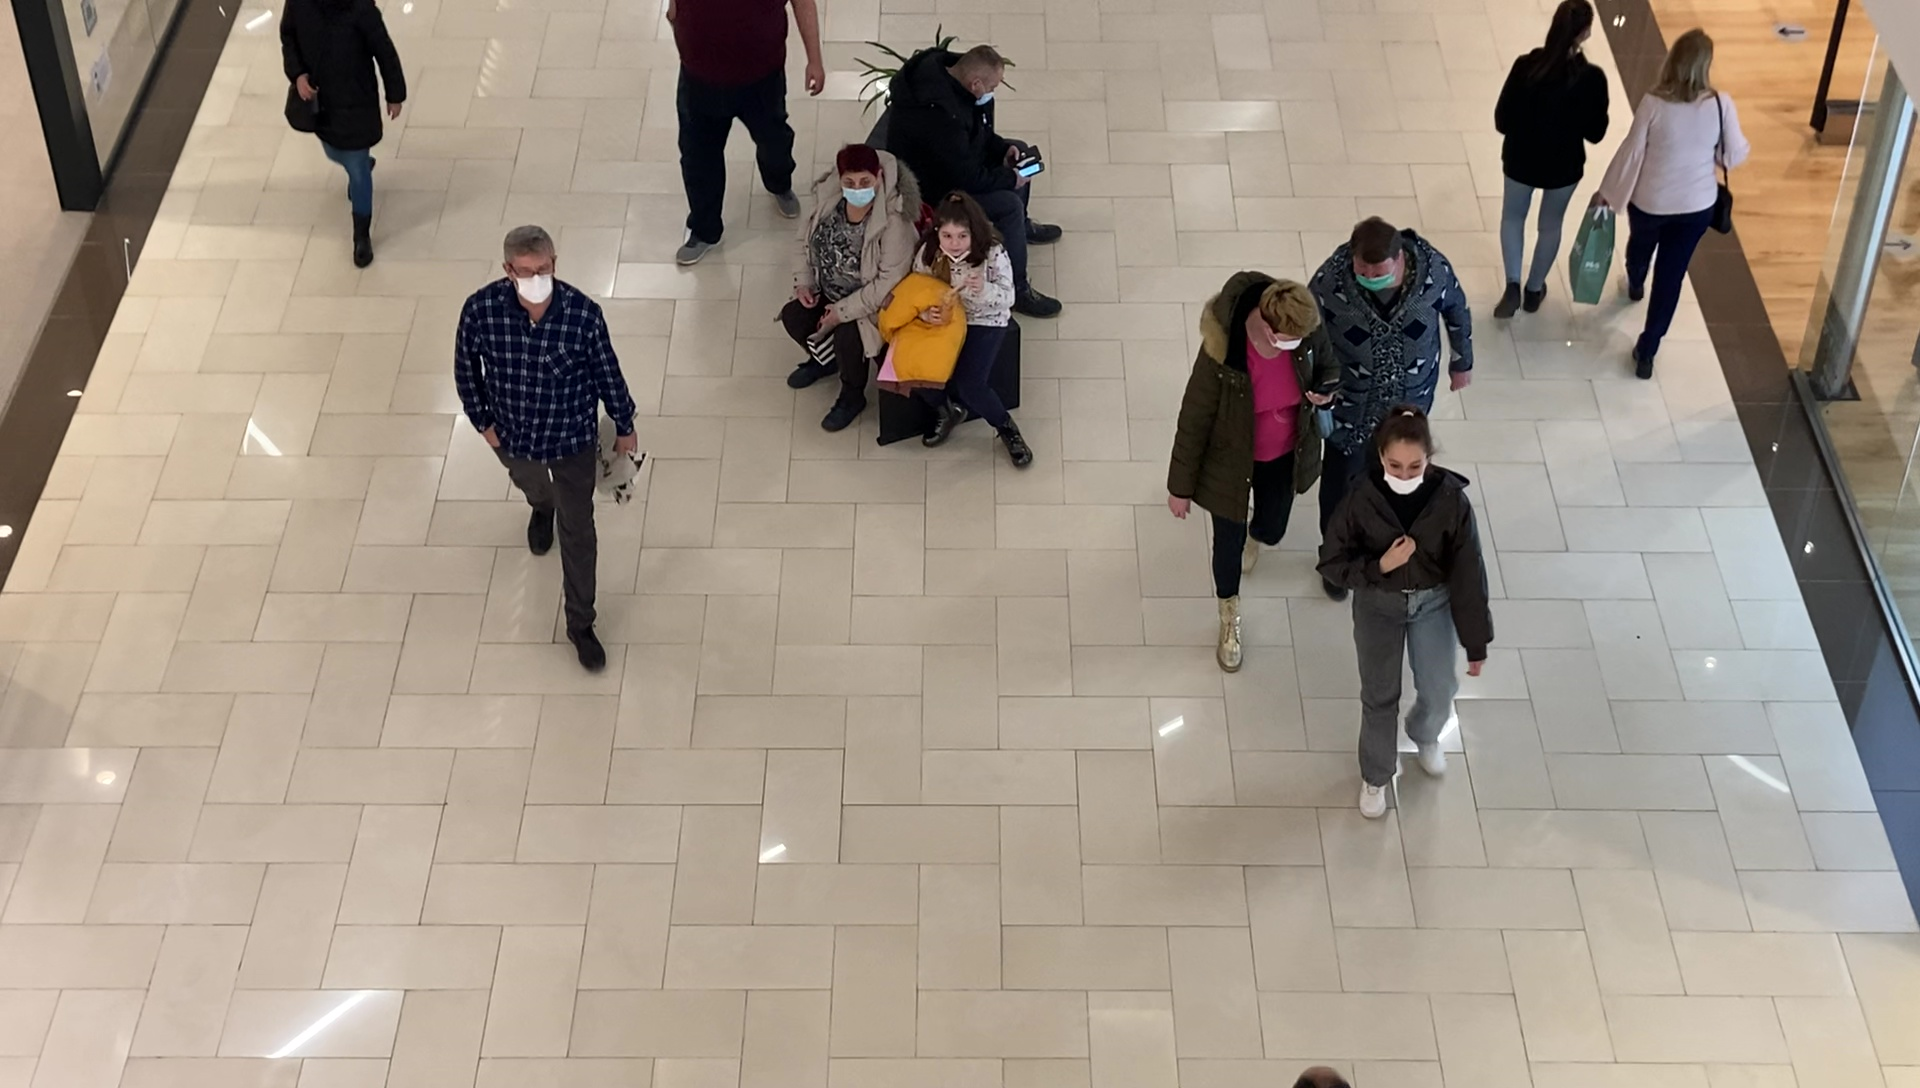person: (456, 226, 636, 677), (1321, 410, 1494, 819), (1166, 280, 1334, 674), (1618, 29, 1752, 380), (666, 1, 823, 268), (1496, 1, 1608, 325), (279, 3, 410, 268)
